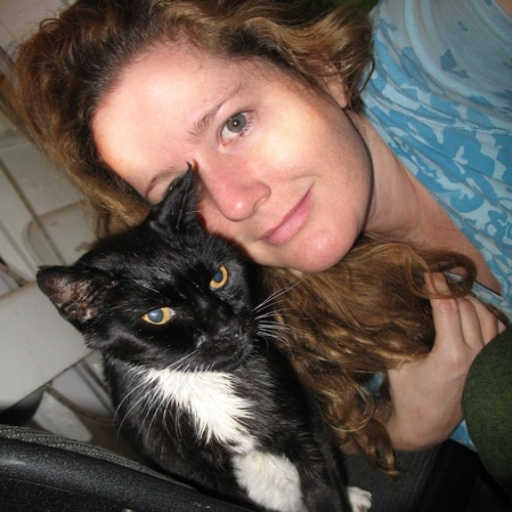hand: (369, 215, 498, 472)
